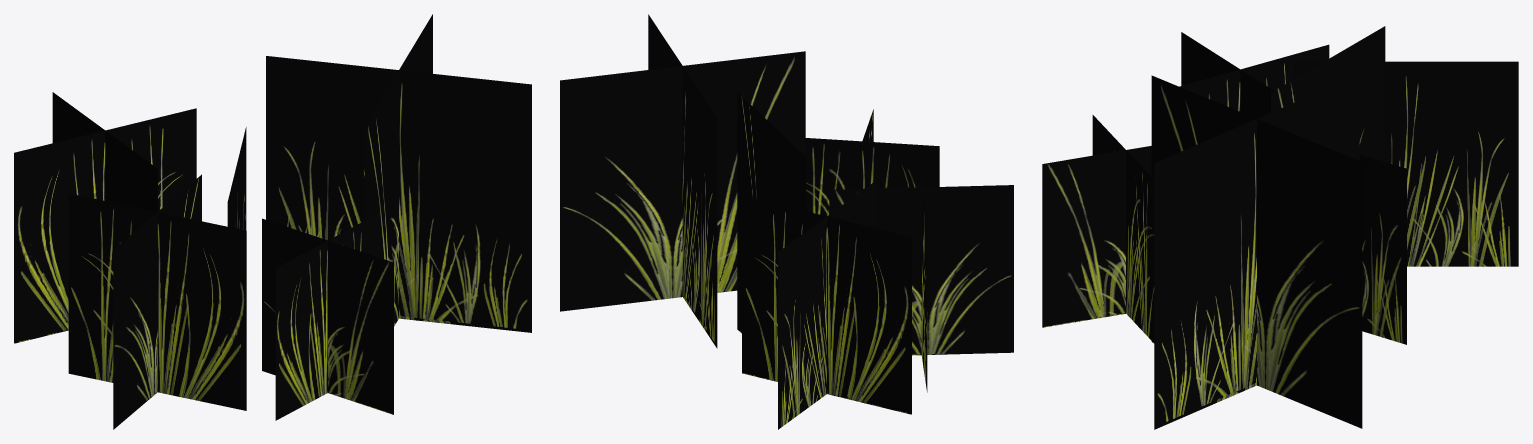
The model's file is grass_patch6.fbx.
3 views of the same model, side by side, from view 1: azimuth 30°, elevation 25°; view 2: azimuth 150°, elevation 25°; view 3: azimuth 270°, elevation 25° (orthographic). The views are drawn at different scales.
Parts seen in each view (by area): view 1: Plane.001; view 2: Plane.001; view 3: Plane.001.
Part boxes in pixels (box(x1,y1,x2,y2)): Plane.001: box(14, 14, 531, 429); Plane.001: box(560, 14, 1013, 429); Plane.001: box(1042, 26, 1518, 429).
Size of the model in its own units: 50.58 by 31.28 by 47.94.
